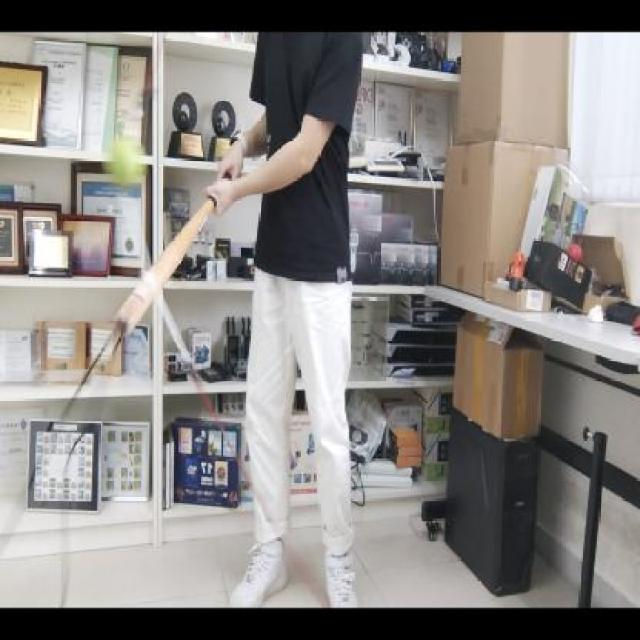baseball: (101, 136, 148, 187)
